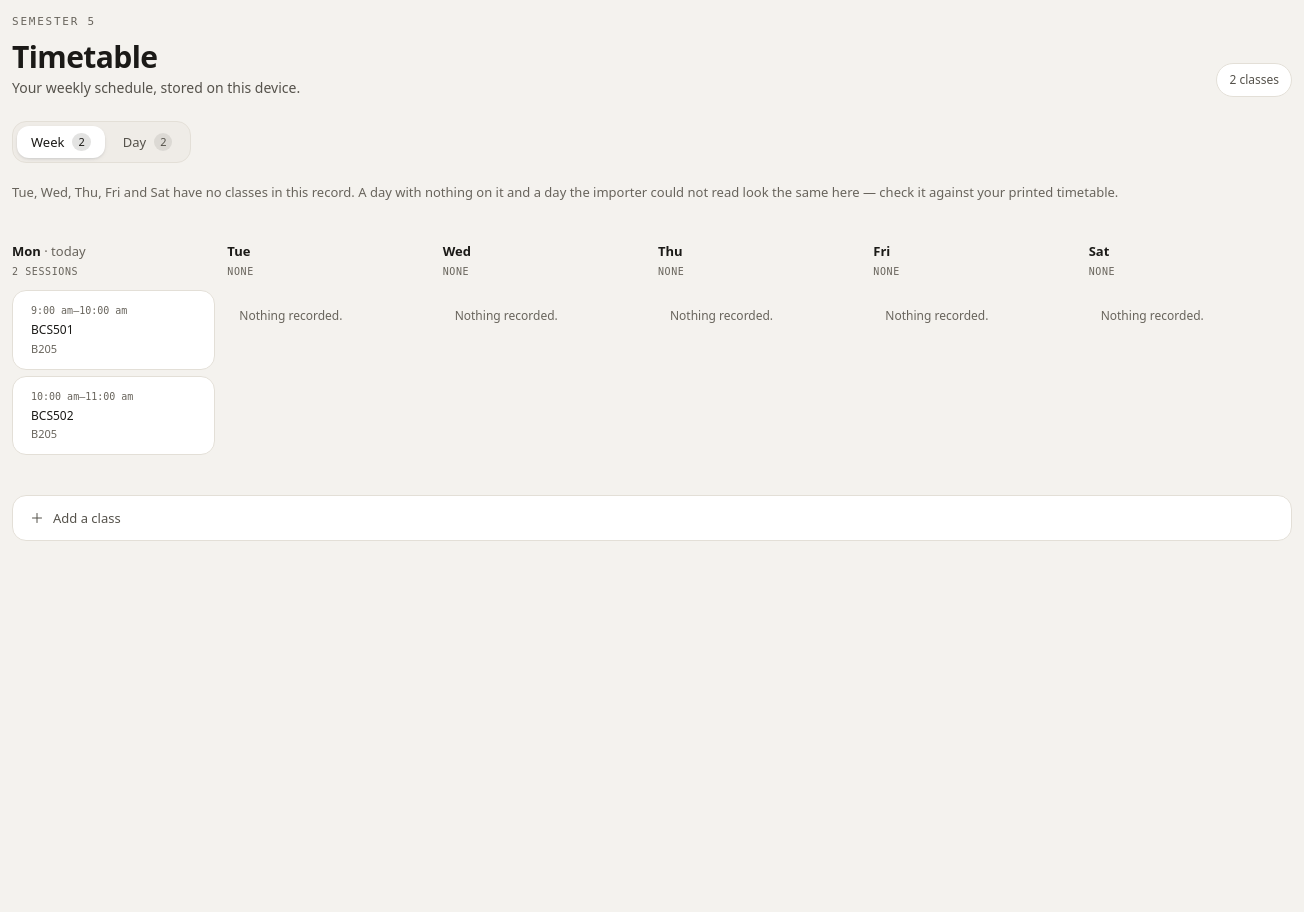
it: the class happening right now › names it, and only while it is true
The image size is (1304, 912).
Click the tab "Day 2": point(148, 142) [109,126,186,158]
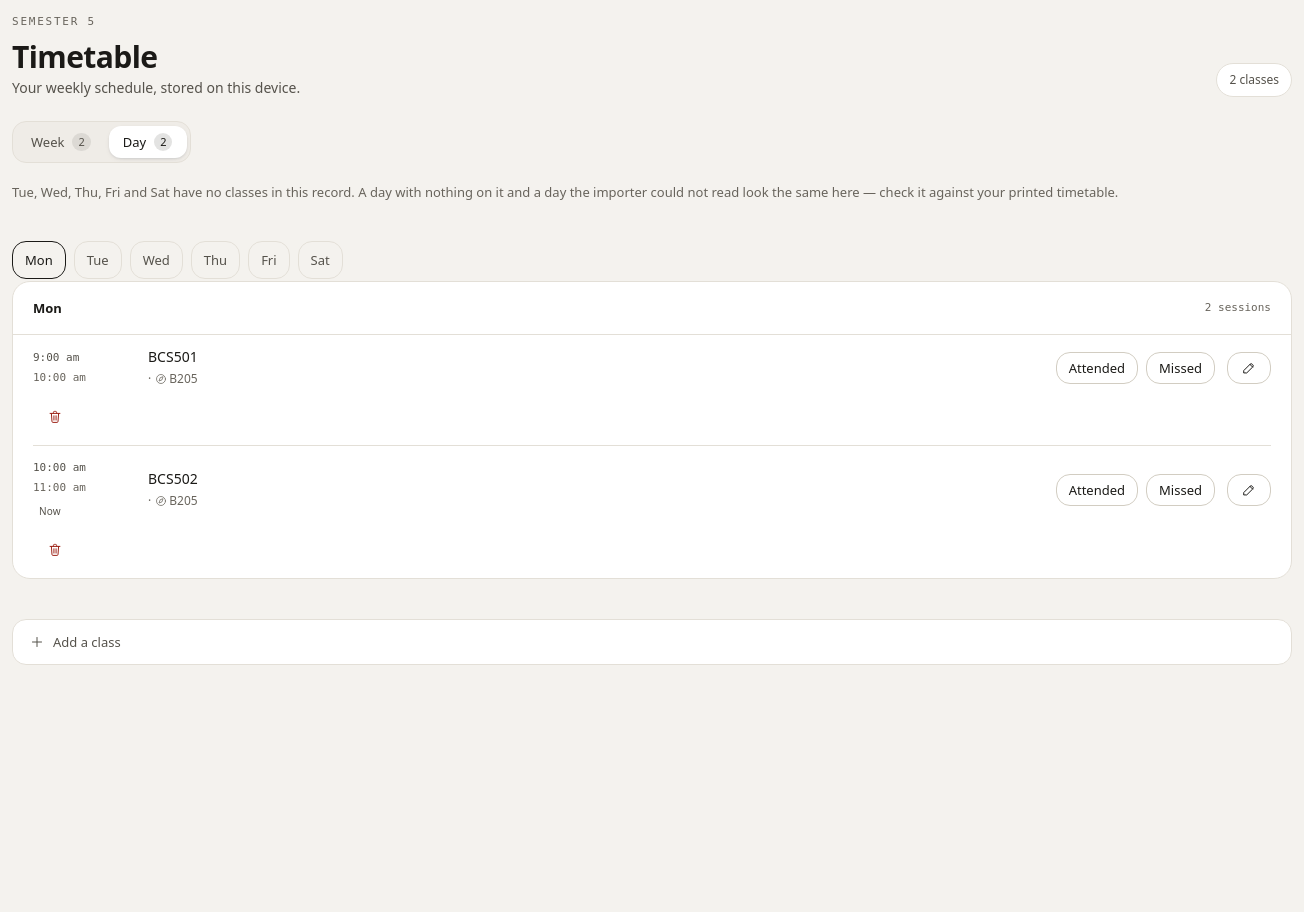
expect the text "Now" is shown once: met, box [39,504,61,518]
